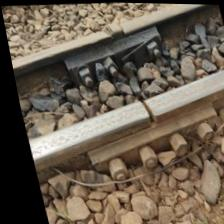person: (117, 89, 170, 133), (99, 11, 141, 45)
